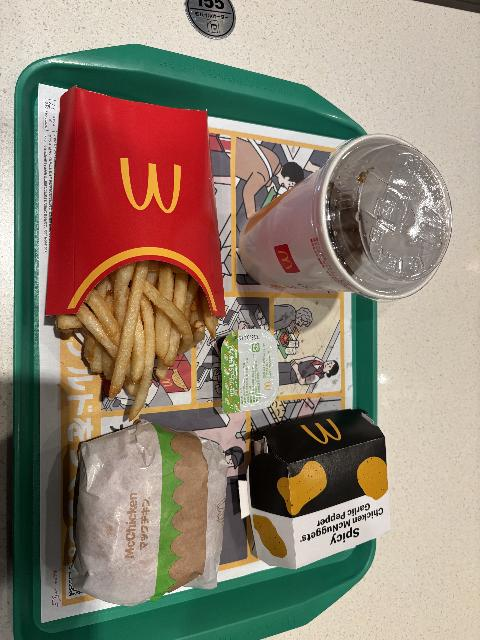burger: (70, 420, 227, 607)
drink: (235, 134, 454, 303)
fries: (47, 86, 226, 421)
nuggets: (238, 408, 392, 570)
sauce: (220, 328, 279, 412)
